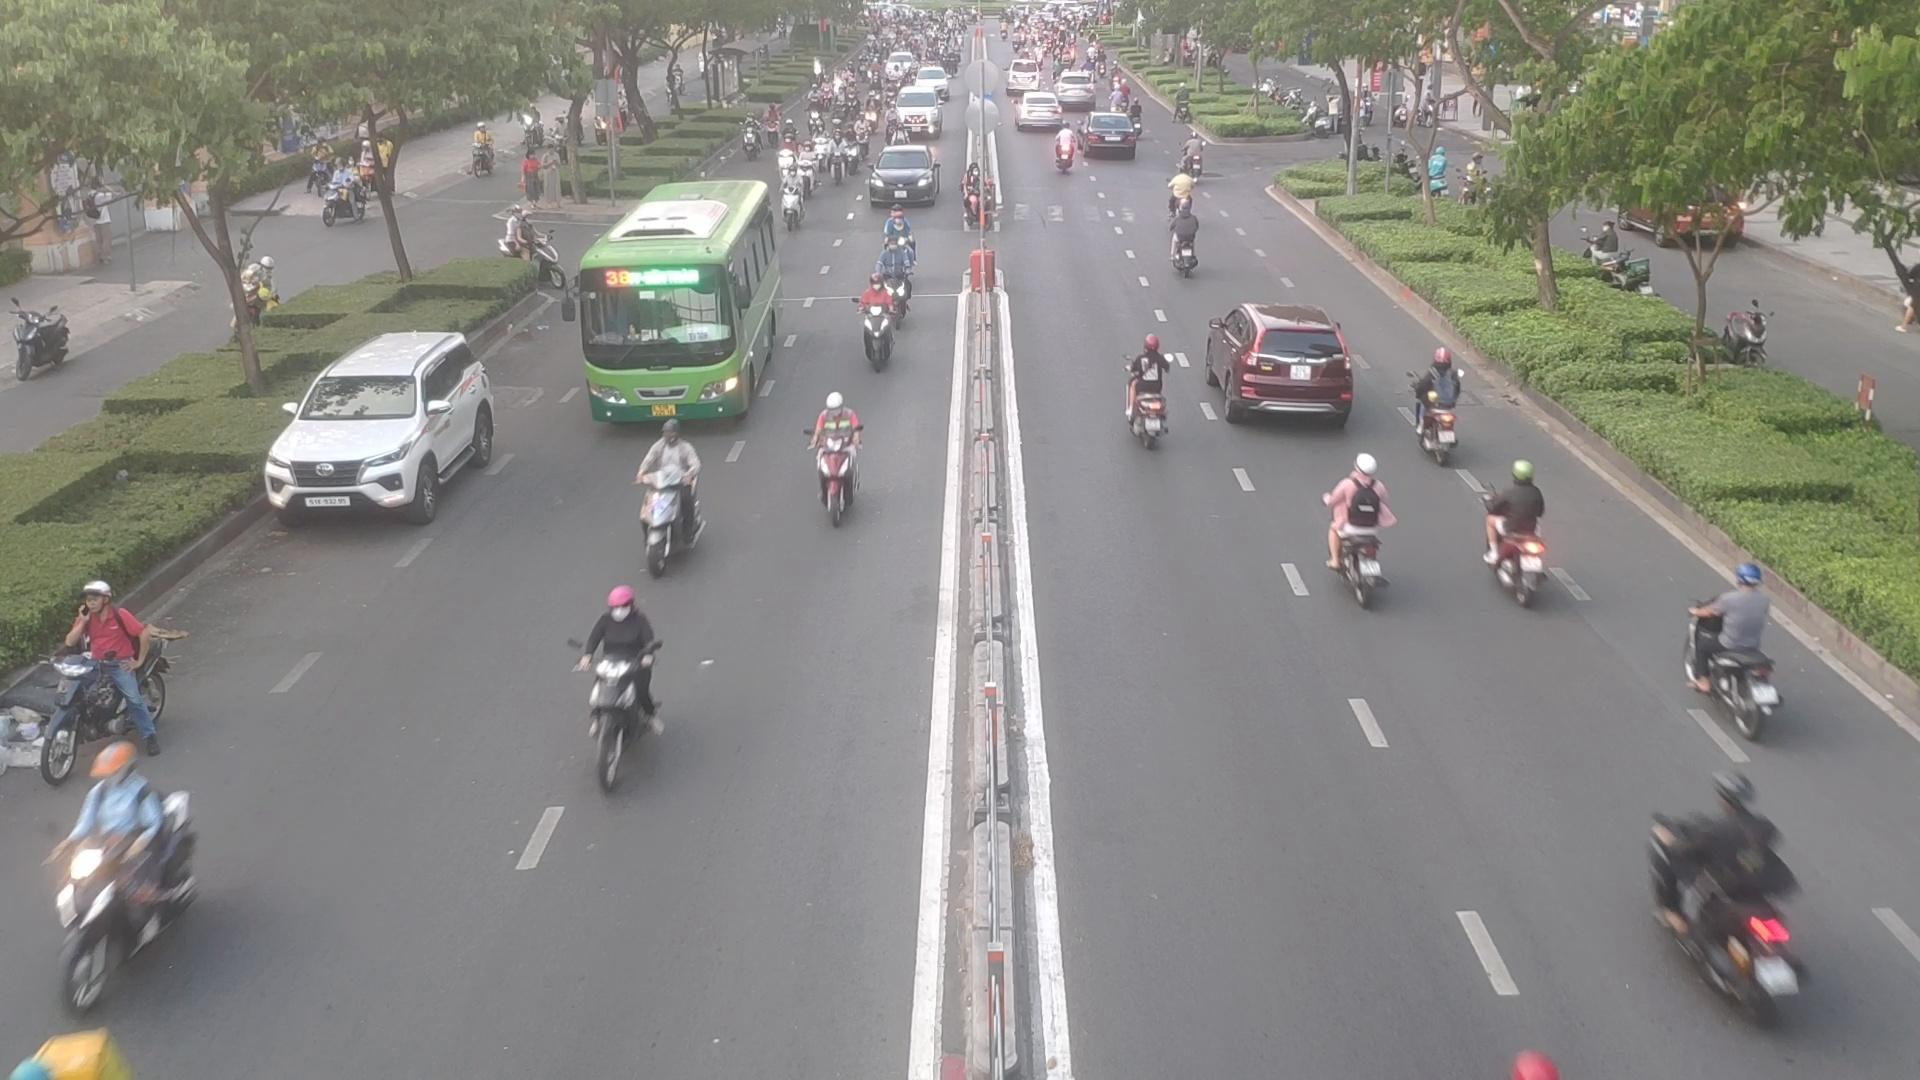bus: (568, 185, 789, 435)
car: (268, 331, 512, 527), (1201, 299, 1361, 426), (870, 146, 947, 211), (1073, 113, 1139, 160), (1015, 94, 1064, 132)
motorbike: (1644, 779, 1818, 1025), (45, 756, 191, 1001), (17, 585, 164, 769), (578, 591, 674, 778), (1680, 574, 1791, 732), (1312, 462, 1396, 600), (1480, 459, 1553, 597), (632, 433, 703, 560), (799, 400, 869, 525), (1, 1027, 154, 1080), (1120, 338, 1182, 444), (1412, 351, 1472, 462), (851, 280, 913, 371), (1158, 204, 1197, 276), (1050, 129, 1077, 174)
